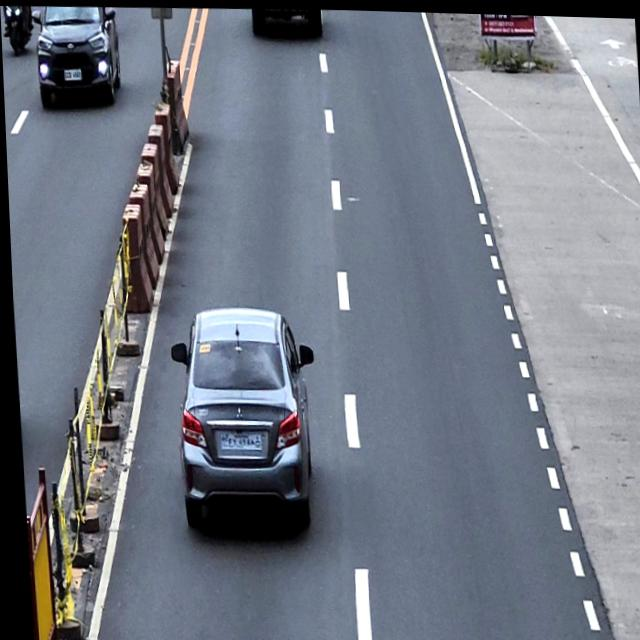Car: (164, 302, 319, 532), (31, 4, 122, 109)
License-Plate: (213, 426, 260, 451), (61, 67, 83, 80)
Motorcycle: (2, 5, 34, 56)
